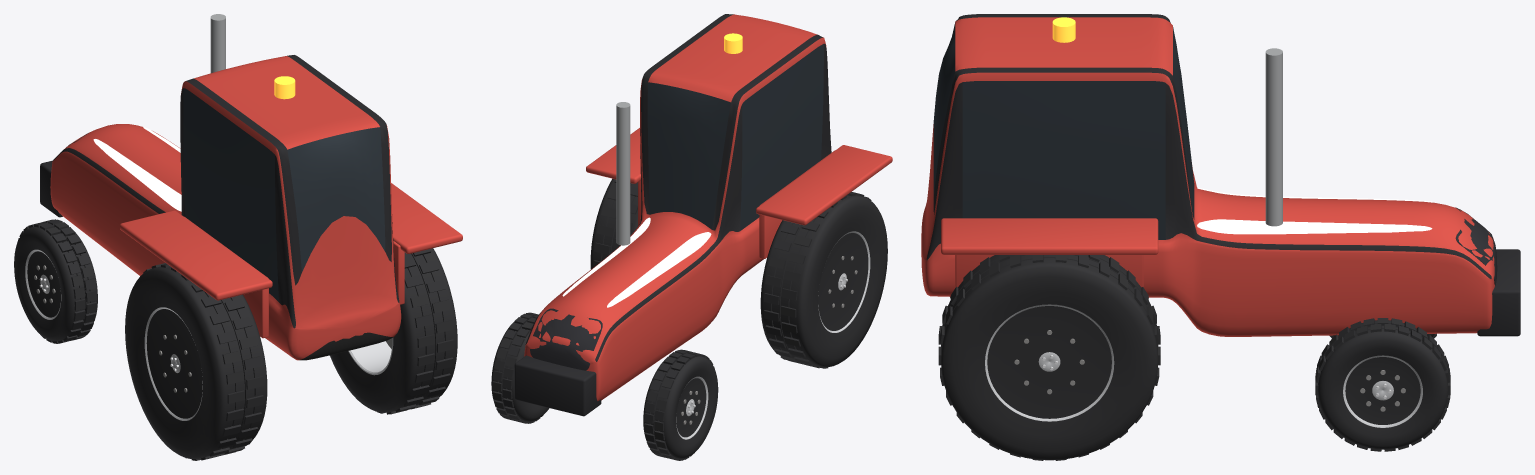
Rendered from TrafficTractor.glb.
3 views of the same model, side by side, from view 1: azimuth 30°, elevation 25°; view 2: azimuth 150°, elevation 25°; view 3: azimuth 270°, elevation 25° (orthographic). The views are drawn at different scales.
Parts seen in each view (by area): view 1: TrafficTractor_Body, TrafficTractor_Wheel_RL, TrafficTractor_Glass, TrafficTractor_Wheel_RR, TrafficTractor_Wheel_FL, TrafficTractor_Lights_Head; view 2: TrafficTractor_Body, TrafficTractor_Glass, TrafficTractor_Wheel_RL, TrafficTractor_Wheel_FL, TrafficTractor_Wheel_FR, TrafficTractor_Wheel_RR, TrafficTractor_Lights_Head; view 3: TrafficTractor_Body, TrafficTractor_Wheel_RR, TrafficTractor_Glass, TrafficTractor_Wheel_FR, TrafficTractor_Lights_Head.
Boxes of the visible parts, bbox=[...] form: TrafficTractor_Body: bbox=[40, 14, 462, 360]; TrafficTractor_Wheel_RL: bbox=[125, 263, 267, 460]; TrafficTractor_Glass: bbox=[183, 88, 385, 301]; TrafficTractor_Wheel_RR: bbox=[330, 248, 457, 414]; TrafficTractor_Wheel_FL: bbox=[14, 219, 97, 343]; TrafficTractor_Lights_Head: bbox=[93, 127, 181, 211]; TrafficTractor_Body: bbox=[514, 14, 892, 416]; TrafficTractor_Glass: bbox=[647, 44, 823, 230]; TrafficTractor_Wheel_RL: bbox=[760, 192, 887, 368]; TrafficTractor_Wheel_FL: bbox=[643, 349, 718, 460]; TrafficTractor_Wheel_FR: bbox=[491, 312, 549, 423]; TrafficTractor_Wheel_RR: bbox=[590, 178, 637, 269]; TrafficTractor_Lights_Head: bbox=[562, 217, 711, 307]; TrafficTractor_Body: bbox=[921, 14, 1520, 336]; TrafficTractor_Wheel_RR: bbox=[938, 255, 1160, 460]; TrafficTractor_Glass: bbox=[933, 22, 1194, 239]; TrafficTractor_Wheel_FR: bbox=[1315, 318, 1450, 451]; TrafficTractor_Lights_Head: bbox=[1197, 187, 1432, 234].
Size of the model in its own units: 2.18 by 2.88 by 4.14.
